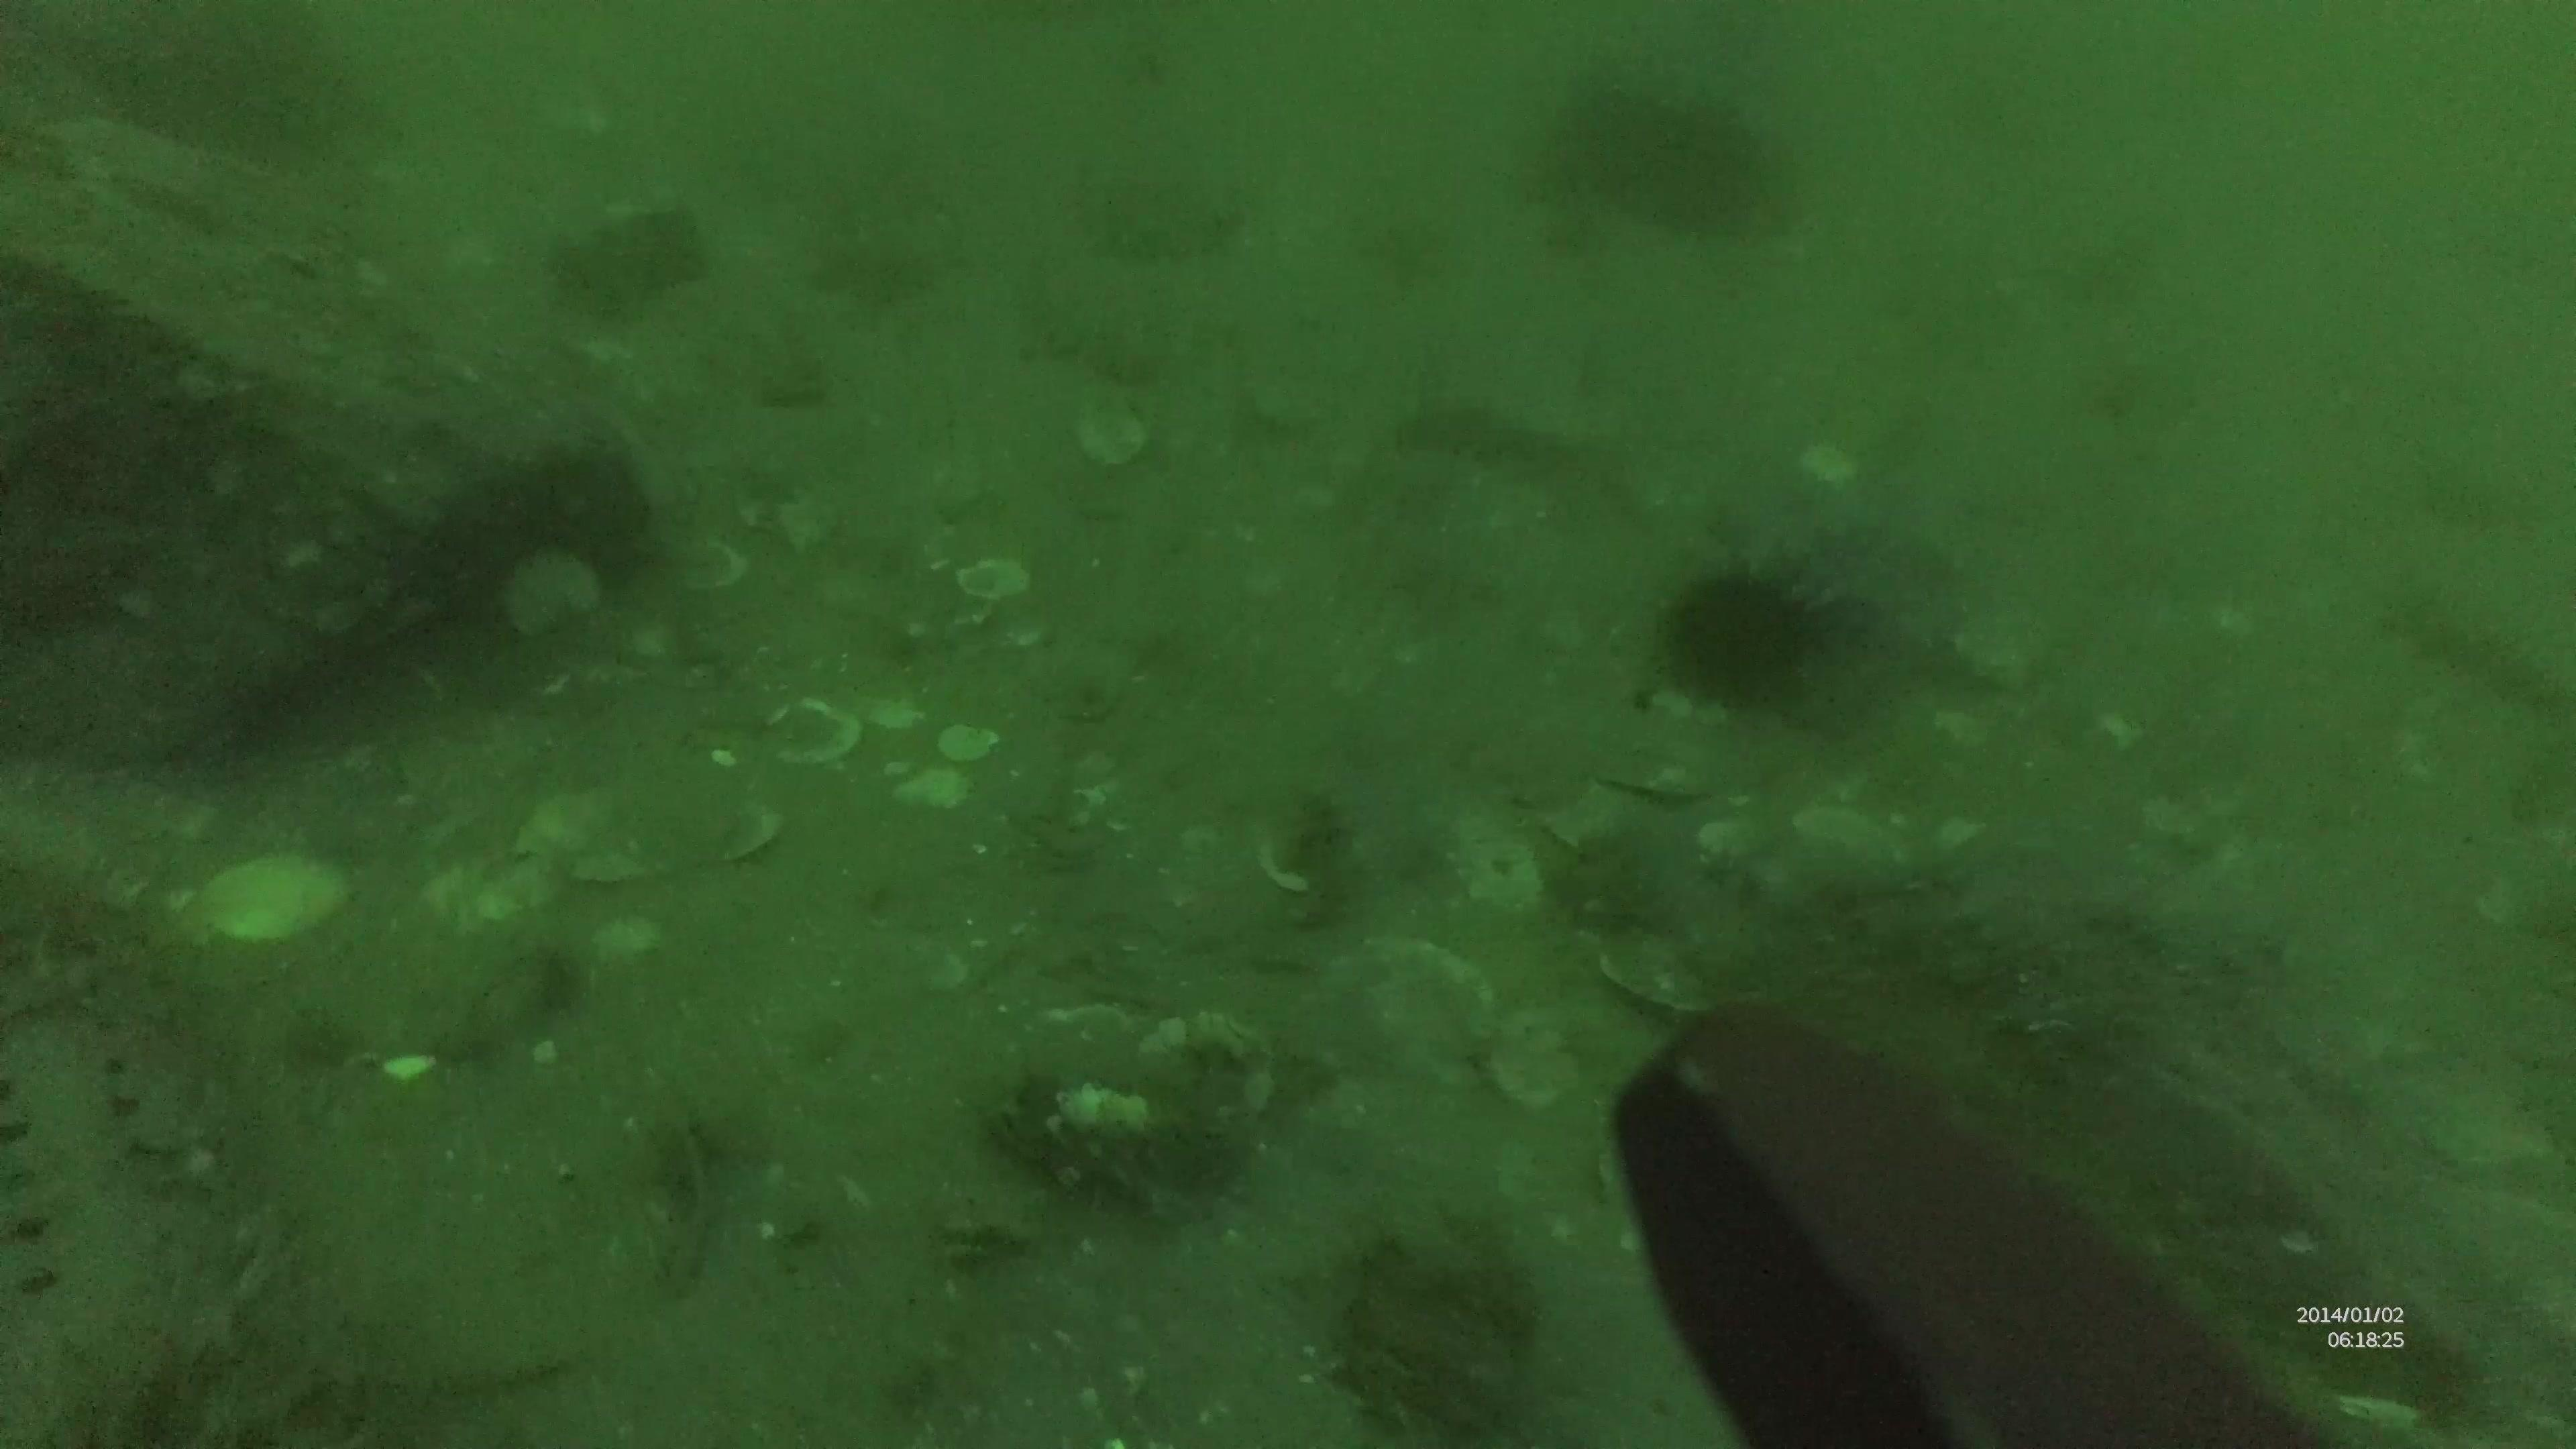echinus: (1656, 570, 1845, 711)
scallop: (1951, 609, 2072, 692), (1803, 437, 1874, 495), (2091, 702, 2141, 752), (1932, 708, 1987, 750)
